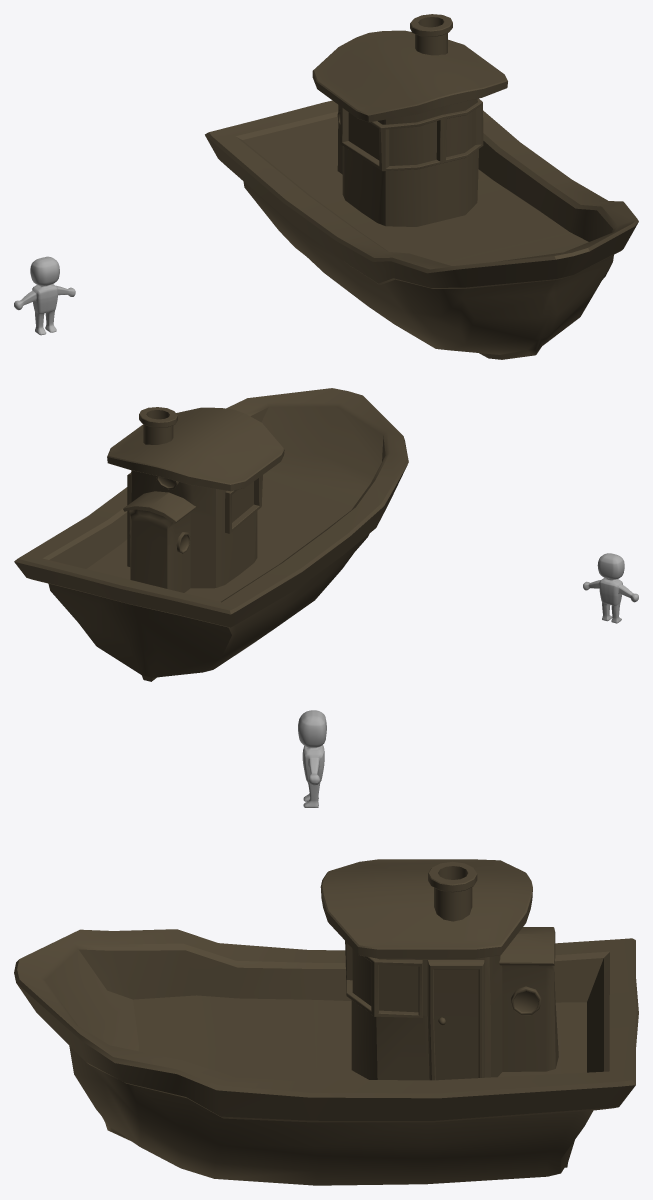
File: cahr+Boat_02.fbx
3 renders of one model, top to bottom at view 1: azimuth 30°, elevation 25°; view 2: azimuth 150°, elevation 25°; view 3: azimuth 270°, elevation 25°, orthographic. The views are drawn at different scales.
Parts seen in each view (by area): view 1: boat, character; view 2: boat, character; view 3: boat, character.
Boxes of the visible parts, bbox=[...] form: boat: bbox=[205, 14, 638, 359]; character: bbox=[14, 256, 75, 335]; boat: bbox=[14, 388, 408, 681]; character: bbox=[583, 553, 638, 623]; boat: bbox=[14, 859, 638, 1185]; character: bbox=[298, 710, 326, 807].
Size of the model in its own units: 19.28 by 8.73 by 15.03.
